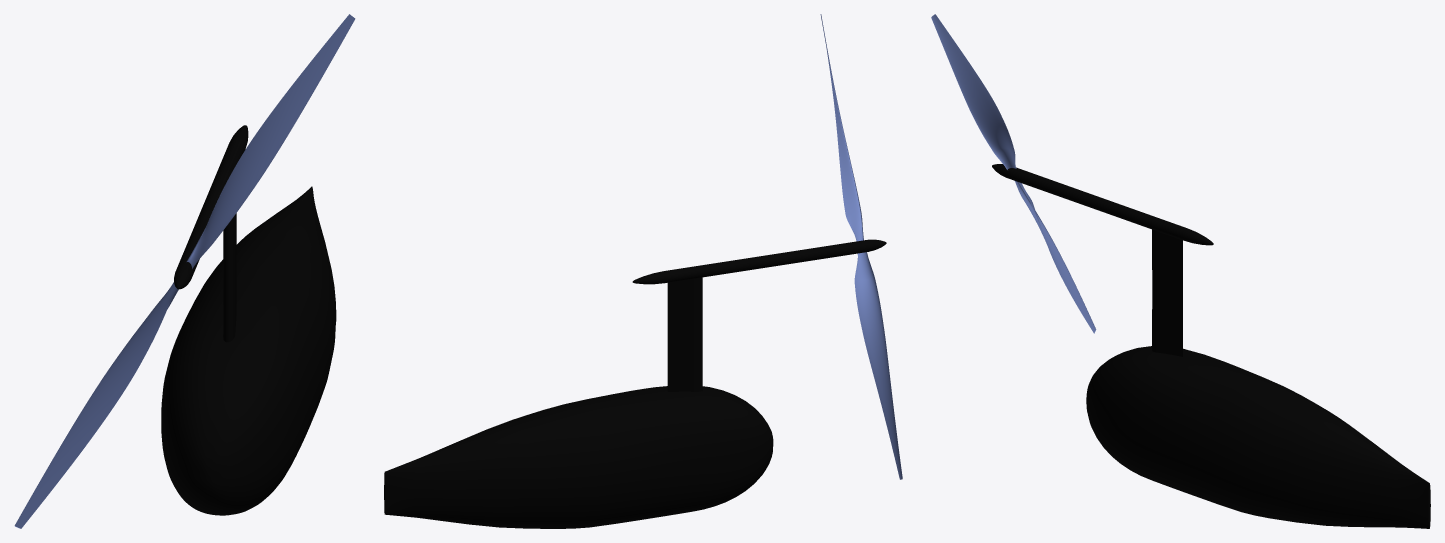
Rendered from Prop.glb.
3 renders of one model, left to right at view 1: azimuth 30°, elevation 25°; view 2: azimuth 150°, elevation 25°; view 3: azimuth 270°, elevation 25°, orthographic. The views are drawn at different scales.
Parts seen in each view (by area): view 1: 20_Export_Calculation_CFD_Full_finalSurroundingGeometry, 10_Geometry_03_Blade_v2_6_finaleBlade_Stucture (×2); view 2: 20_Export_Calculation_CFD_Full_finalSurroundingGeometry, 10_Geometry_03_Blade_v2_6_finaleBlade_Stucture (×2); view 3: 20_Export_Calculation_CFD_Full_finalSurroundingGeometry, 10_Geometry_03_Blade_v2_6_finaleBlade_Stucture (×2).
Part boxes in pixels (x1,y1,x2,y2): 20_Export_Calculation_CFD_Full_finalSurroundingGeometry: [161, 125, 336, 515]; 10_Geometry_03_Blade_v2_6_finaleBlade_Stucture (×2): [14, 14, 355, 528]; 20_Export_Calculation_CFD_Full_finalSurroundingGeometry: [384, 239, 886, 528]; 10_Geometry_03_Blade_v2_6_finaleBlade_Stucture (×2): [820, 14, 902, 479]; 20_Export_Calculation_CFD_Full_finalSurroundingGeometry: [992, 164, 1430, 528]; 10_Geometry_03_Blade_v2_6_finaleBlade_Stucture (×2): [931, 14, 1096, 333].
Bounding box in the file's own units: 3.1 × 3.43 × 3.45.
